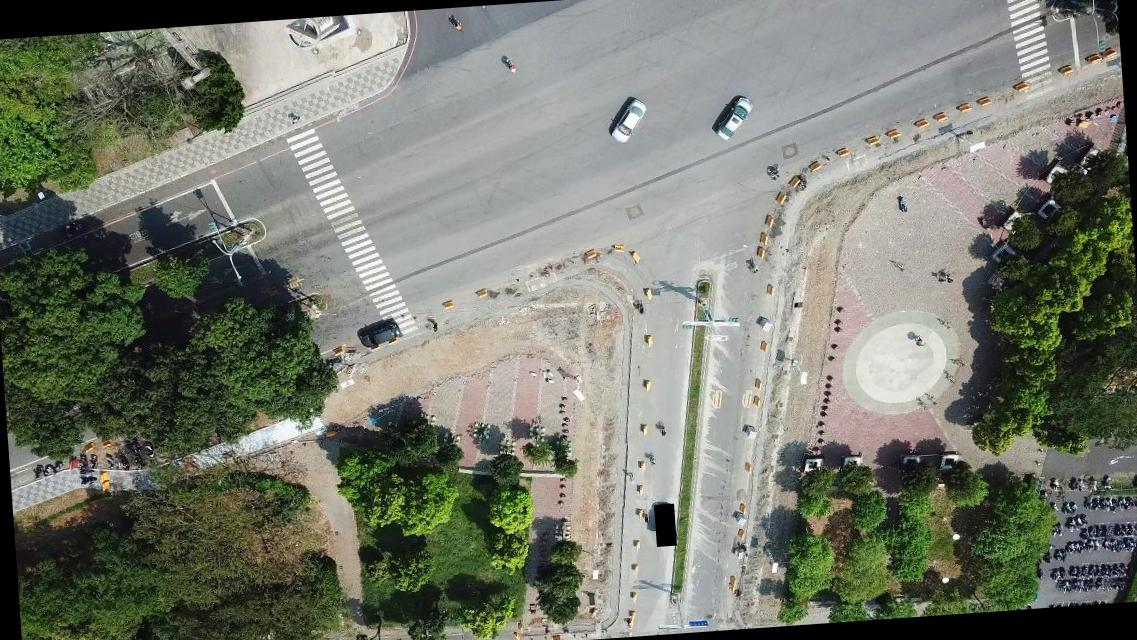vehicle: (710, 94, 754, 142), (606, 98, 647, 144), (356, 318, 402, 348)
